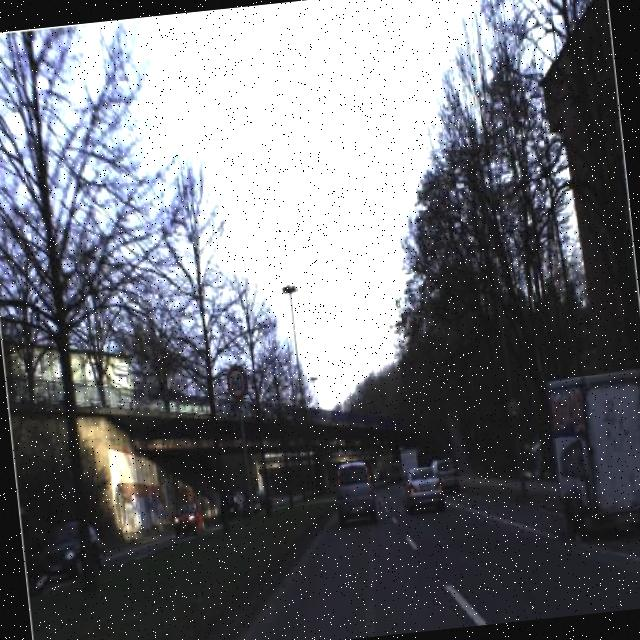Ograniczenie predkosci do 60: (222, 364, 251, 406), (503, 392, 523, 421)
